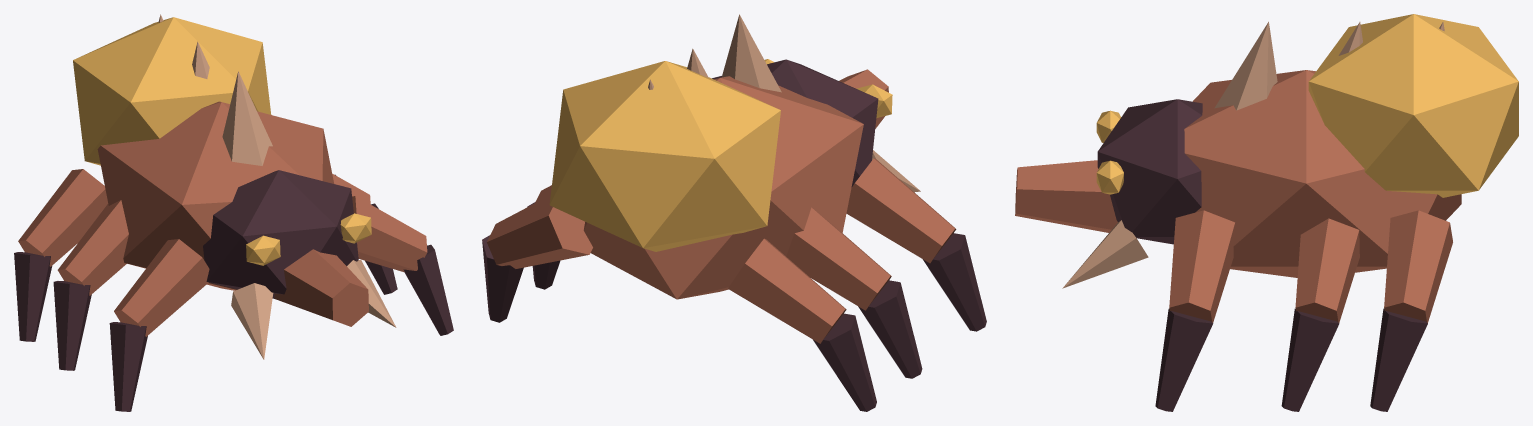
File: spitter.glb
The picture shows the model from 3 angles, left to right: view 1: azimuth 30°, elevation 25°; view 2: azimuth 150°, elevation 25°; view 3: azimuth 270°, elevation 25°; orthographic projection. The views are drawn at different scales.
Visible parts, largest first — view 1: spitter; view 2: spitter; view 3: spitter.
Boxes of the visible parts, left/top/right/bottom form: spitter: left=14, top=14, right=453, bottom=411; spitter: left=482, top=14, right=986, bottom=411; spitter: left=1015, top=14, right=1518, bottom=411.
Size of the model in its own units: 1.55 by 1.21 by 1.78.
1 material, 1 textured.
